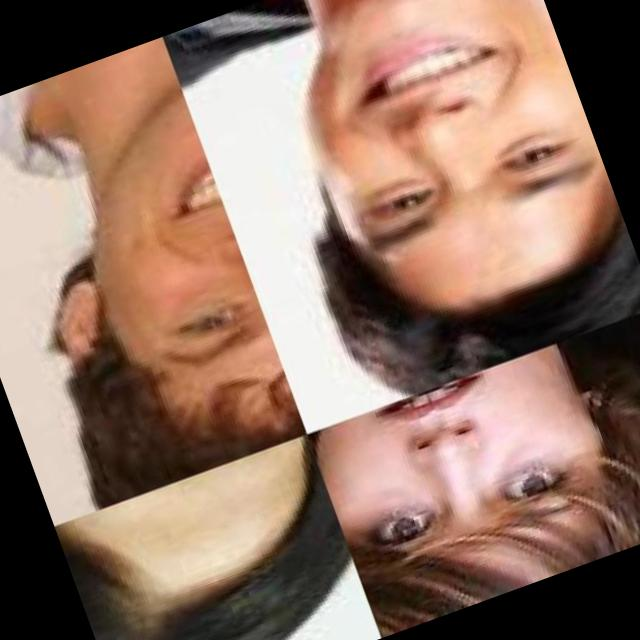bareface: (200, 0, 640, 416)
